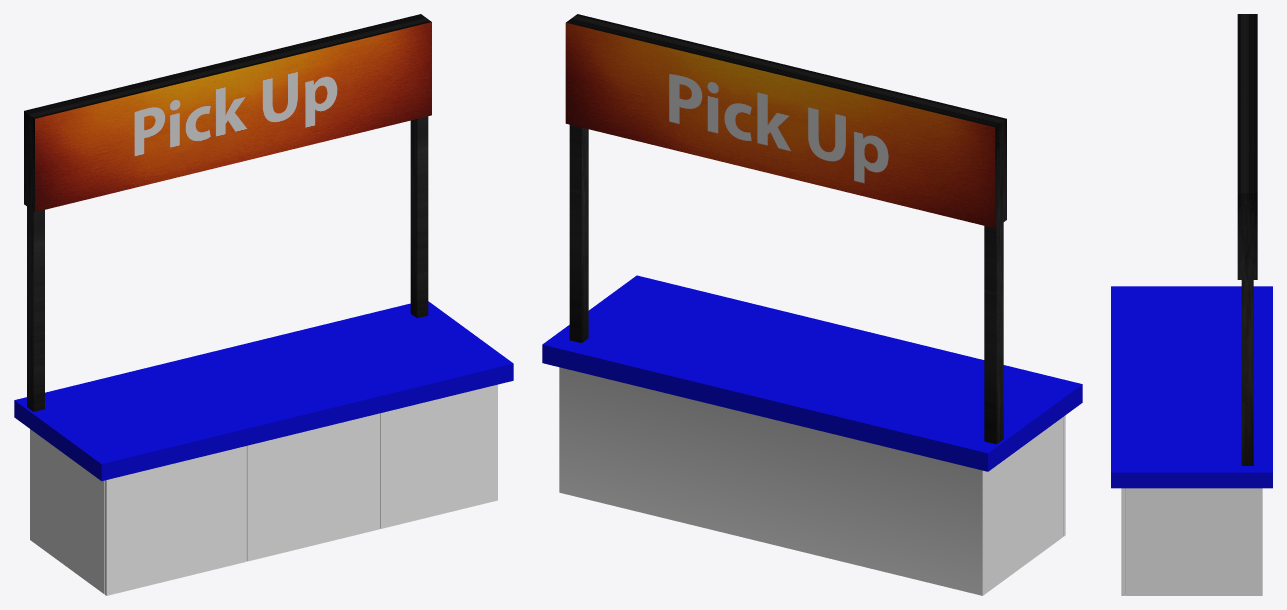
Rendered from pickup_counter.fbx.
3 views of the same model, side by side, from view 1: azimuth 30°, elevation 25°; view 2: azimuth 150°, elevation 25°; view 3: azimuth 270°, elevation 25° (orthographic). The views are drawn at different scales.
Parts seen in each view (by area): view 1: pickup_counter; view 2: pickup_counter; view 3: pickup_counter.
Boxes of the visible parts, box(x1,y1,x2,y2) form: pickup_counter: box(14, 14, 513, 595); pickup_counter: box(542, 14, 1082, 595); pickup_counter: box(1111, 14, 1272, 595).
Bounding box in the file's own units: 58.85 × 21.62 × 59.11.
Materials: 4 (1 with a texture image).
